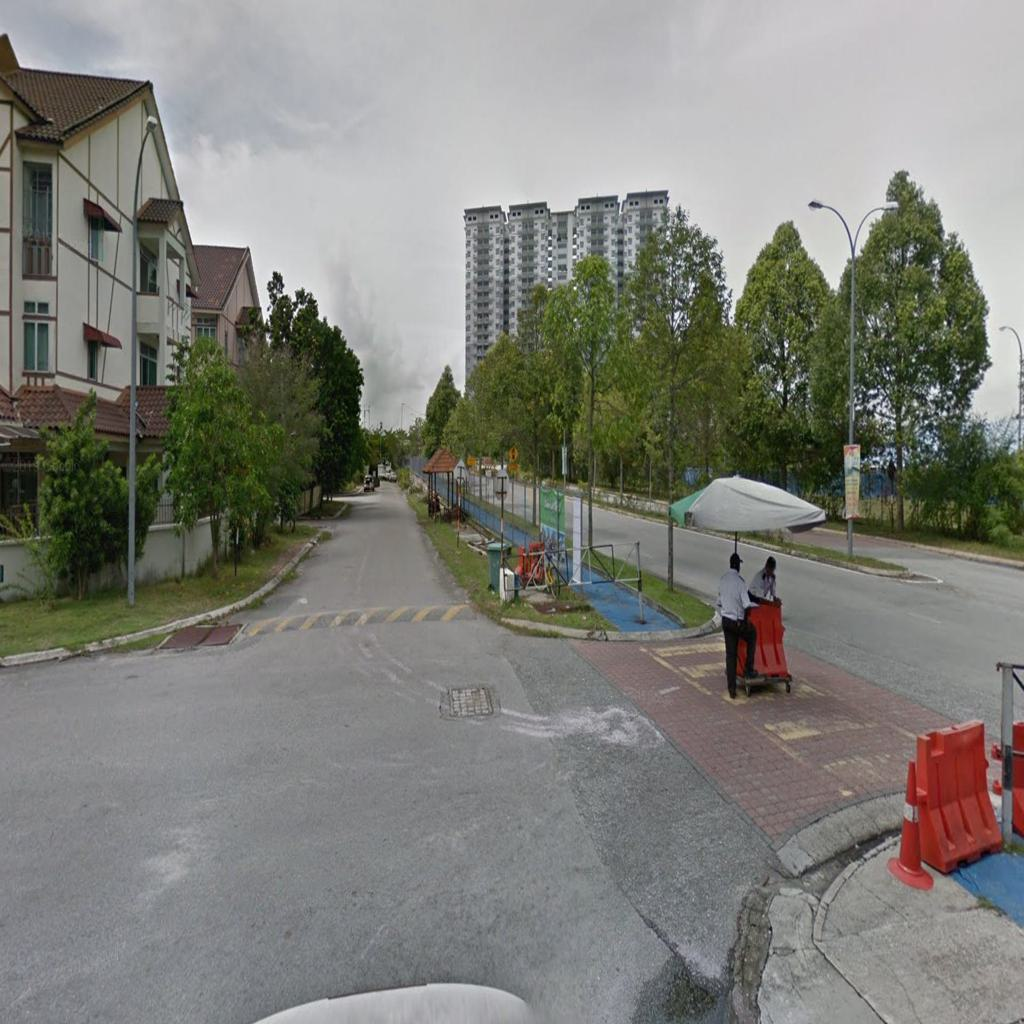Junction: (460, 601, 888, 964)
